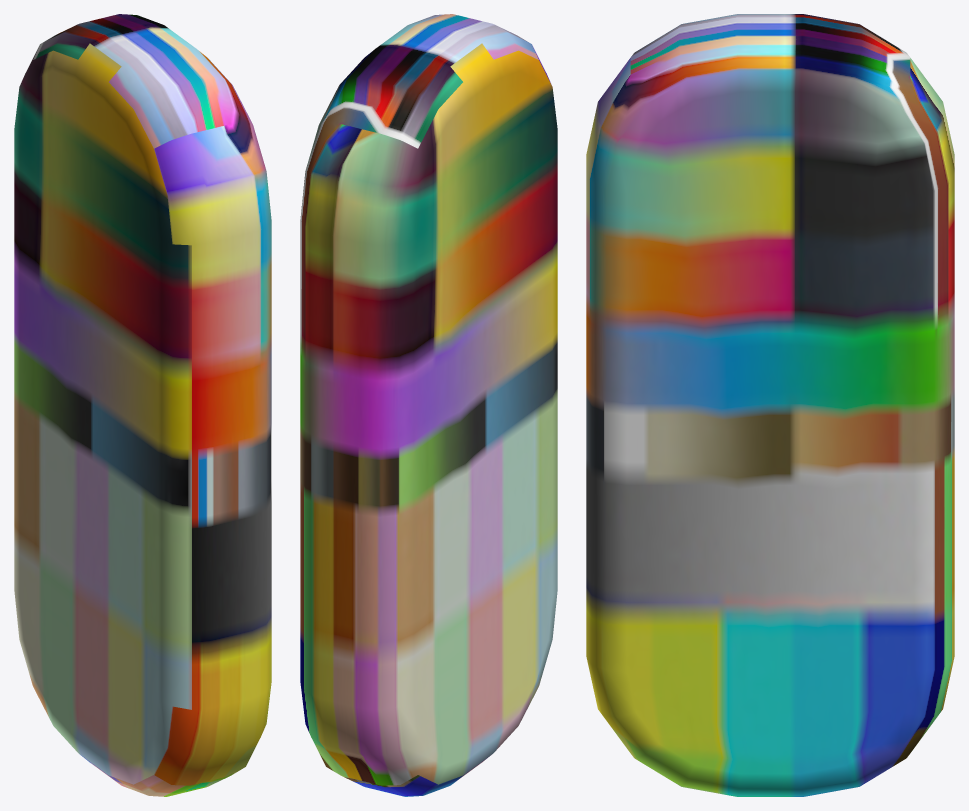
Rendered from TightSmoothCube.fbx.
The picture shows the model from 3 angles, left to right: view 1: azimuth 30°, elevation 25°; view 2: azimuth 150°, elevation 25°; view 3: azimuth 270°, elevation 25°; orthographic projection. The views are drawn at different scales.
Parts seen in each view (by area): view 1: Cube.007; view 2: Cube.007; view 3: Cube.007.
Boxes of the visible parts, left/top/right/bottom form: Cube.007: left=14, top=14, right=271, bottom=796; Cube.007: left=300, top=14, right=557, bottom=796; Cube.007: left=586, top=14, right=954, bottom=796.
Size of the model in its own units: 0.7036 by 4.53 by 2.
